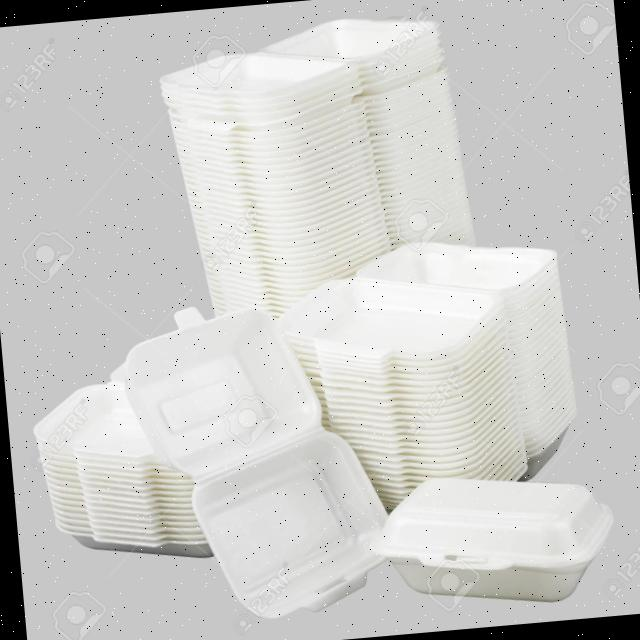styrofoam: (115, 289, 397, 630), (364, 460, 620, 618)
